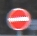No entry: (6, 6, 32, 31)
